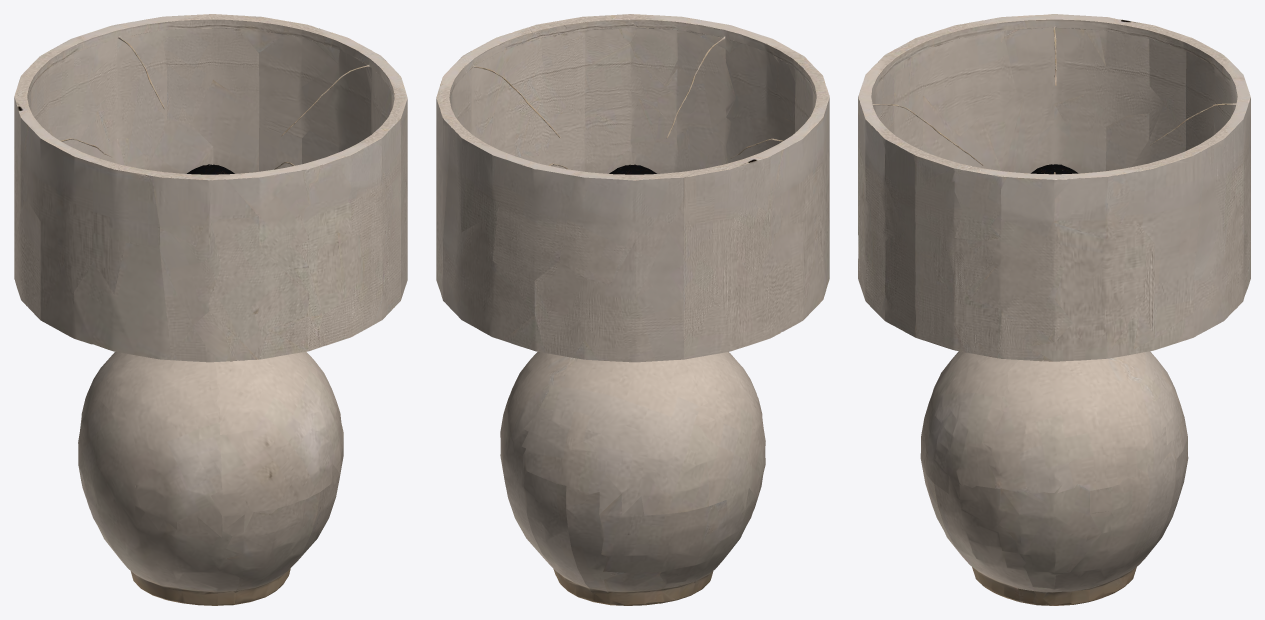
The picture shows the model from 3 angles, left to right: view 1: azimuth 30°, elevation 25°; view 2: azimuth 150°, elevation 25°; view 3: azimuth 270°, elevation 25°; orthographic projection.
Visible parts, largest first — view 1: Mesh_0; view 2: Mesh_0; view 3: Mesh_0.
Part boxes in pixels (x1,y1,x2,y2): Mesh_0: [14, 14, 407, 605]; Mesh_0: [436, 14, 829, 605]; Mesh_0: [858, 14, 1250, 605].
Size of the model in its own units: 0.3848 by 0.5152 by 0.3848.
Materials: 1 (1 with a texture image).
